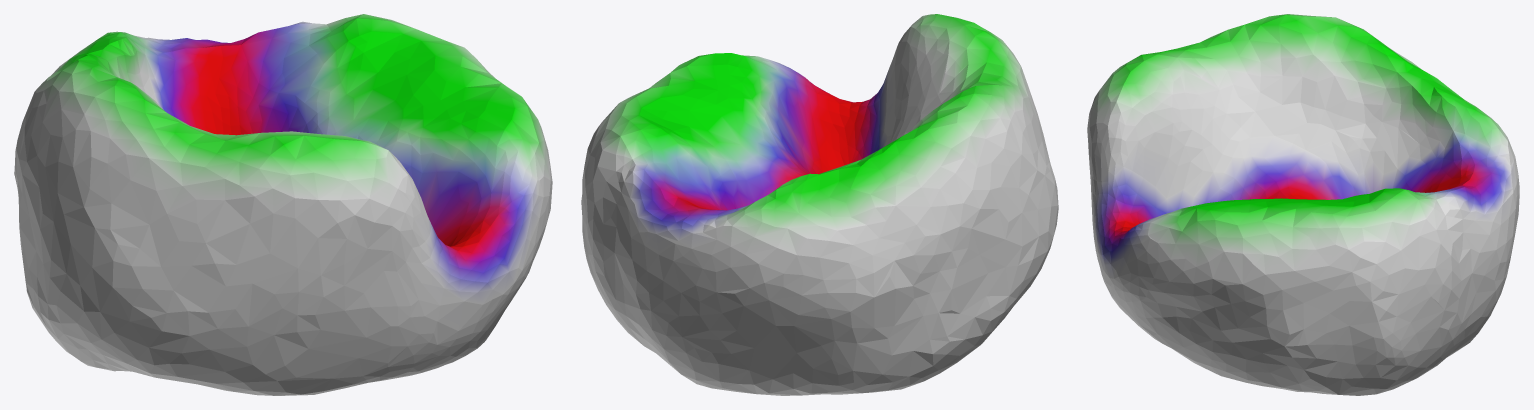
File: Floating Island 2Dips.fbx
The picture shows the model from 3 angles, left to right: view 1: azimuth 30°, elevation 25°; view 2: azimuth 150°, elevation 25°; view 3: azimuth 270°, elevation 25°; orthographic projection. The views are drawn at different scales.
Parts seen in each view (by area): view 1: Sphere; view 2: Sphere; view 3: Sphere.
Part boxes in pixels (<box>): Sphere: <box>14,14,552,395</box>; Sphere: <box>581,14,1058,395</box>; Sphere: <box>1087,14,1519,395</box>.
Bounding box in the file's own units: 224 × 149 × 225.
